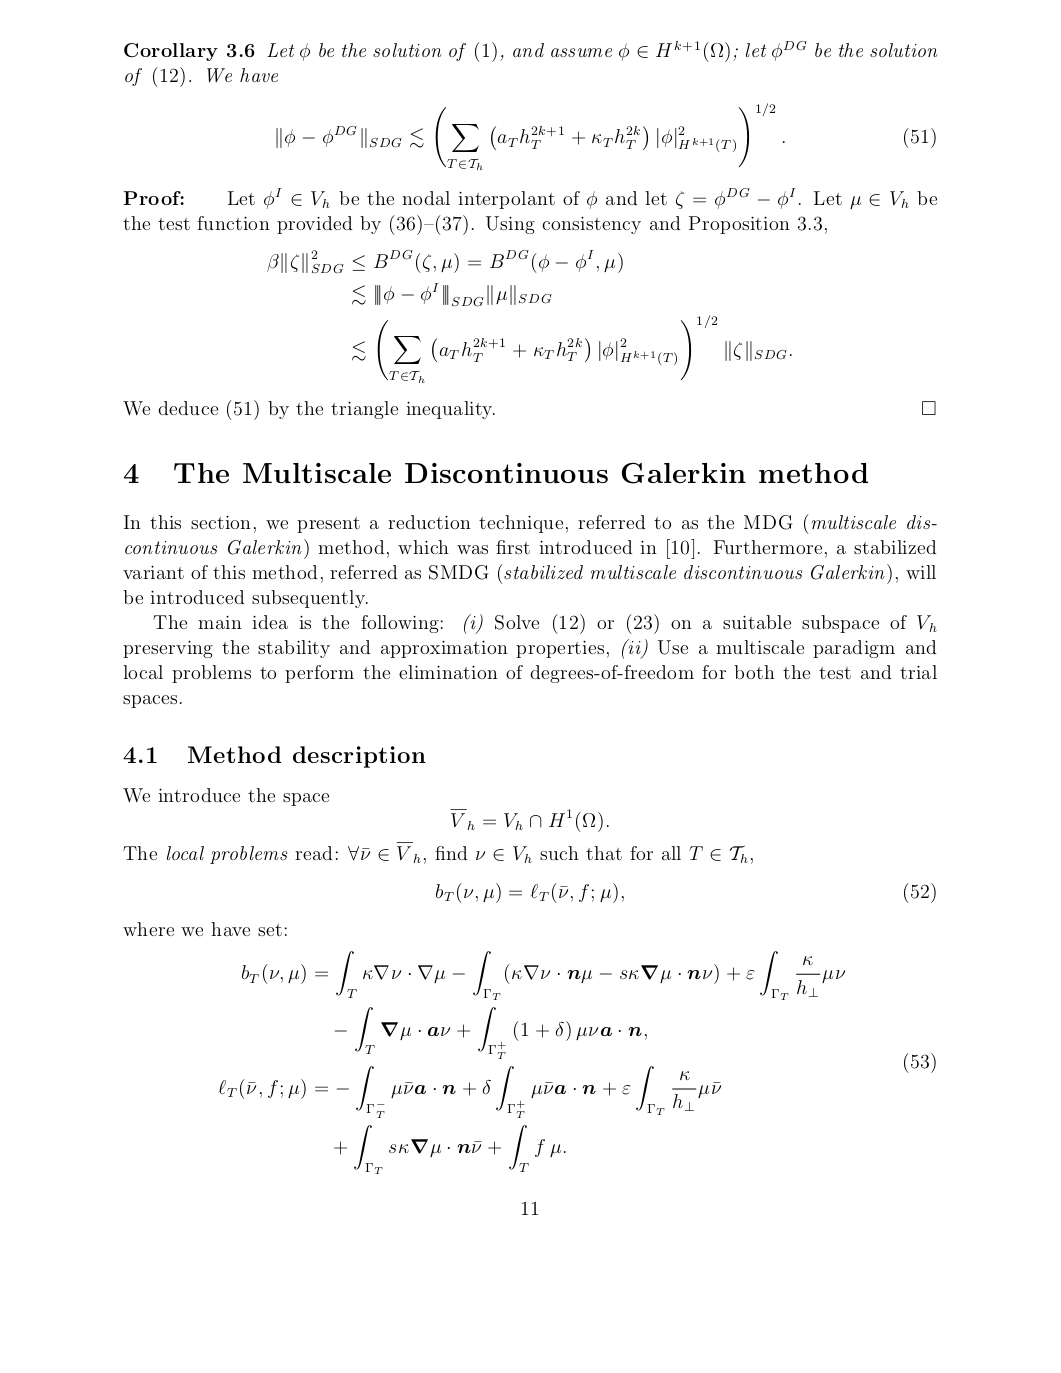formula: (218, 1005, 935, 1118), (276, 103, 935, 171), (352, 314, 791, 383), (242, 950, 845, 1000), (334, 1124, 565, 1174), (436, 882, 935, 903), (267, 249, 622, 274), (352, 282, 551, 306), (450, 808, 609, 832)
